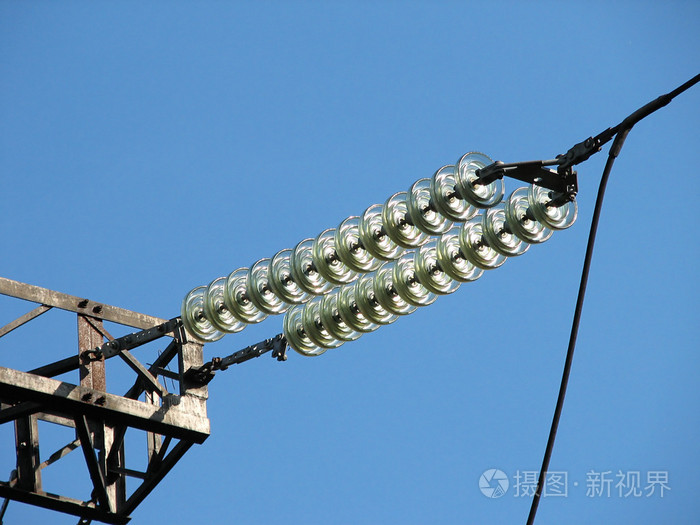insulator: (183, 150, 503, 341), (285, 179, 580, 355)
